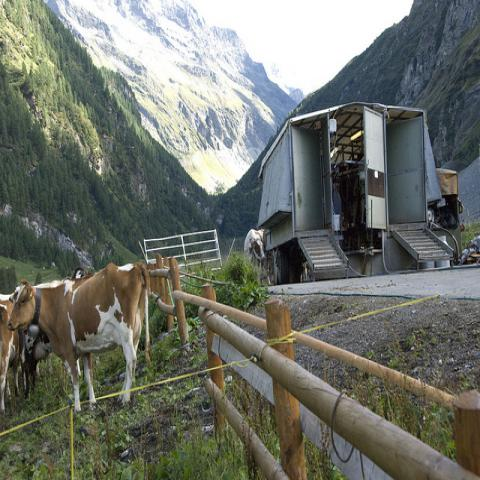truck: (257, 103, 452, 283)
